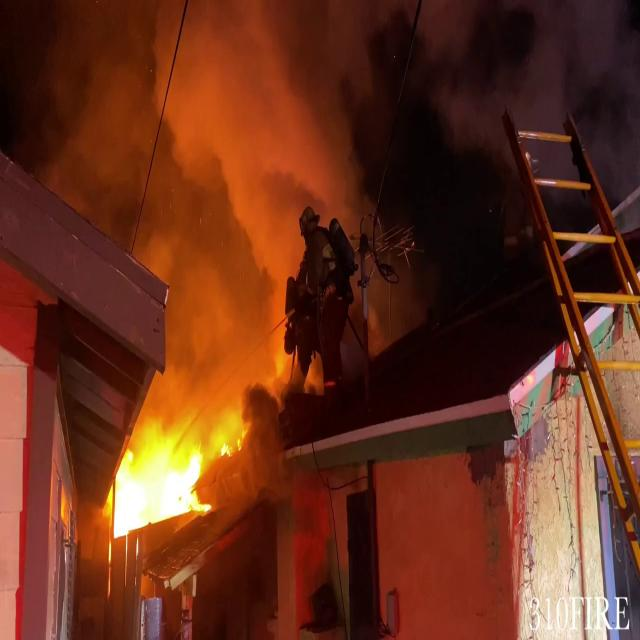Fire: (99, 403, 240, 541)
Smoke: (43, 0, 397, 425)
